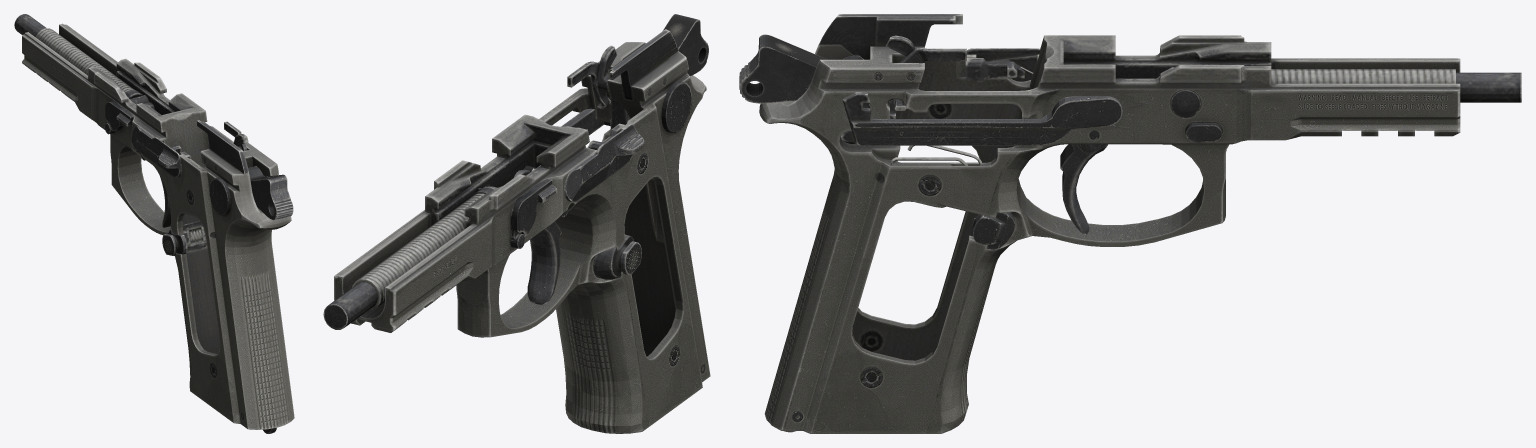
The picture shows the model from 3 angles, left to right: view 1: azimuth 30°, elevation 25°; view 2: azimuth 150°, elevation 25°; view 3: azimuth 270°, elevation 25°; orthographic projection. The views are drawn at different scales.
Parts seen in each view (by area): view 1: TW_5cadc190ae921500103bb3b6_PZ_Import; view 2: TW_5cadc190ae921500103bb3b6_PZ_Import; view 3: TW_5cadc190ae921500103bb3b6_PZ_Import.
Boxes of the visible parts, x1,y1,x2,y2 form: TW_5cadc190ae921500103bb3b6_PZ_Import: (14, 14, 294, 433); TW_5cadc190ae921500103bb3b6_PZ_Import: (323, 14, 710, 433); TW_5cadc190ae921500103bb3b6_PZ_Import: (739, 14, 1521, 433).
Size of the model in its own units: 0.0192 by 0.1238 by 0.0711.
Materials: 1 (1 with a texture image).
